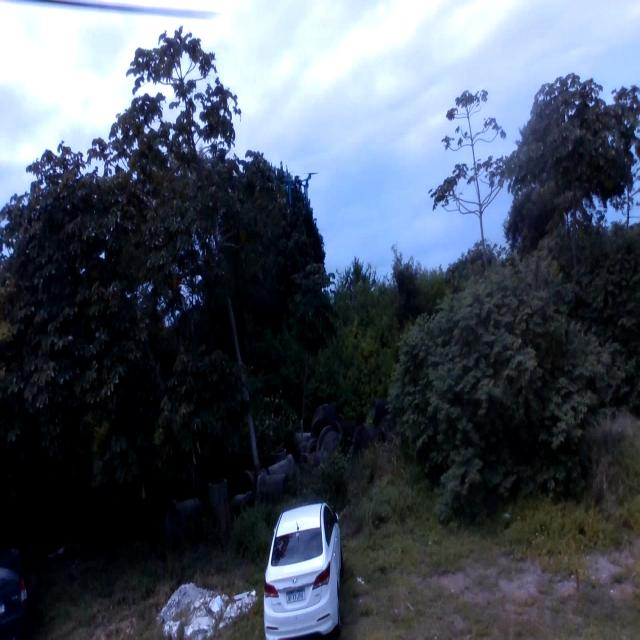-uav-: (271, 159, 320, 215)
